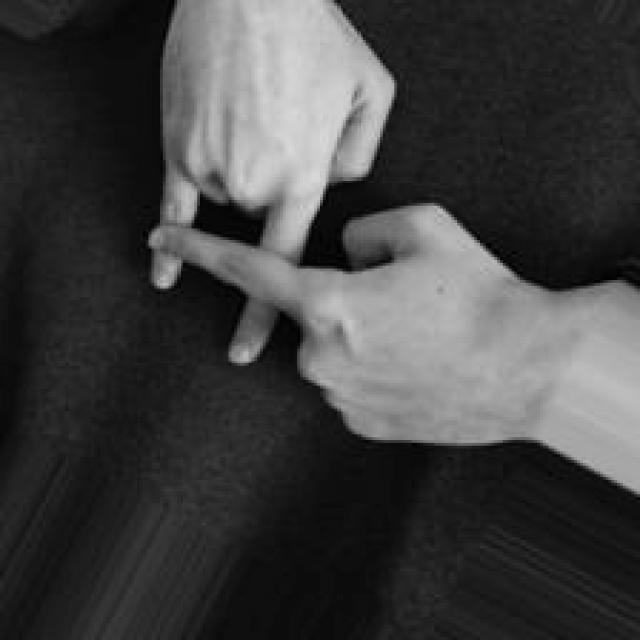H: (143, 0, 535, 448)
